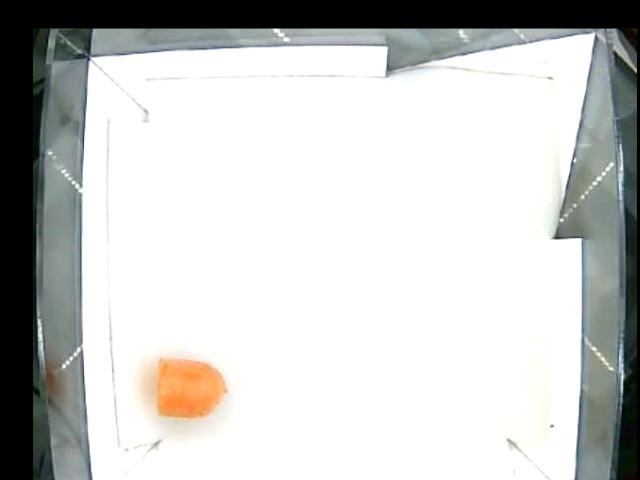Carrot: (153, 358, 225, 418)
